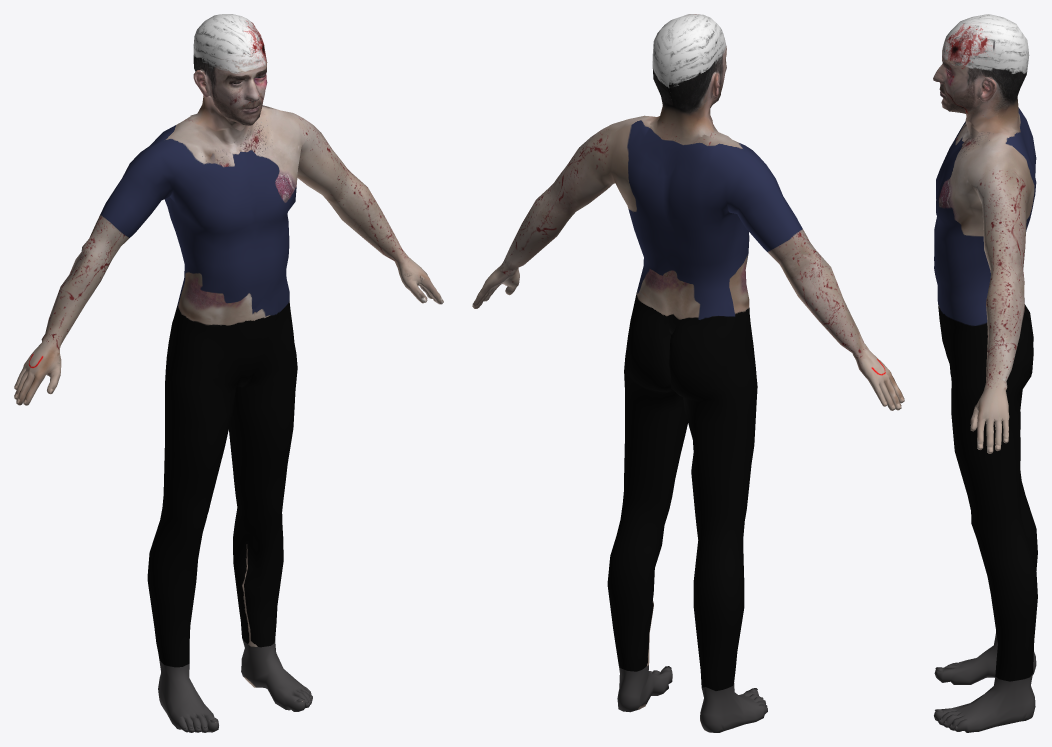
File: testChar.FBX
3 renders of one model, left to right at view 1: azimuth 30°, elevation 25°; view 2: azimuth 150°, elevation 25°; view 3: azimuth 270°, elevation 25°, orthographic.
Parts seen in each view (by area): view 1: body01; view 2: body01; view 3: body01.
Part boxes in pixels (x1=…): body01: x1=14, y1=14, x2=443, y2=732; body01: x1=472, y1=14, x2=904, y2=732; body01: x1=933, y1=14, x2=1037, y2=732.
Bounding box in the file's own units: 4.1 × 6.4 × 0.8863.
